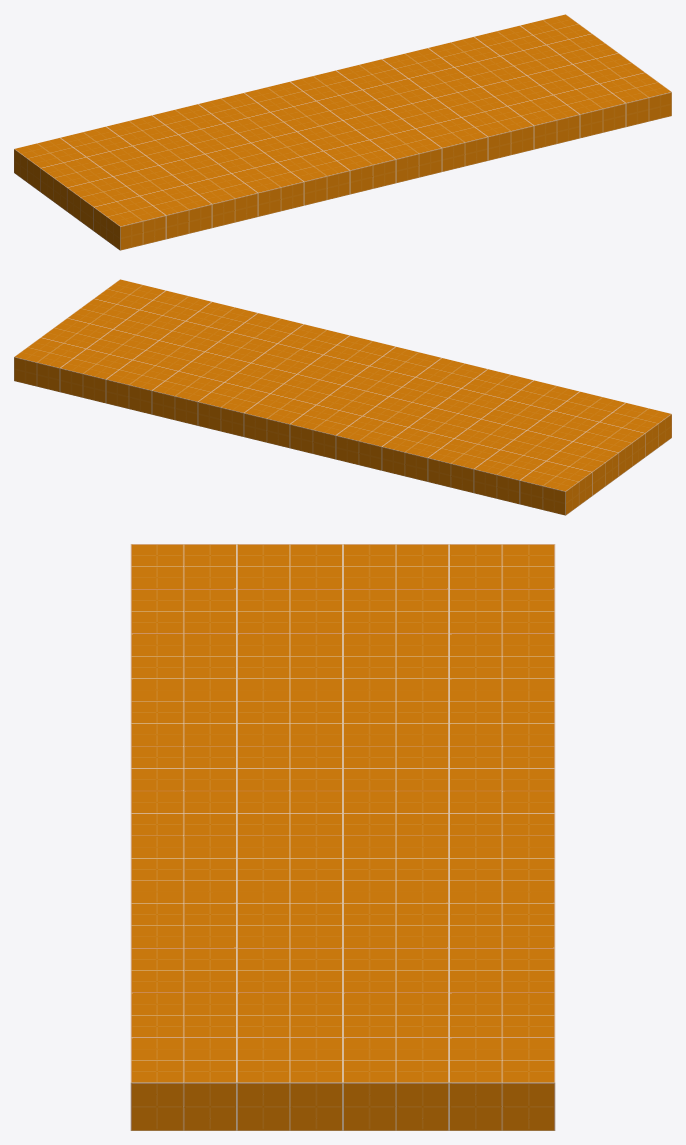
File: Plate2_12x4.obj
3 renders of one model, top to bottom at view 1: azimuth 30°, elevation 25°; view 2: azimuth 150°, elevation 25°; view 3: azimuth 270°, elevation 25°, orthographic. The views are drawn at different scales.
Parts seen in each view (by area): view 1: Plate2_12x4_Cube.311; view 2: Plate2_12x4_Cube.311; view 3: Plate2_12x4_Cube.311.
Boxes of the visible parts, bbox=[...] form: Plate2_12x4_Cube.311: bbox=[14, 14, 671, 250]; Plate2_12x4_Cube.311: bbox=[14, 279, 671, 515]; Plate2_12x4_Cube.311: bbox=[130, 544, 555, 1130].
Size of the model in its own units: 12 by 0.5 by 4.
1 material, 1 textured.
